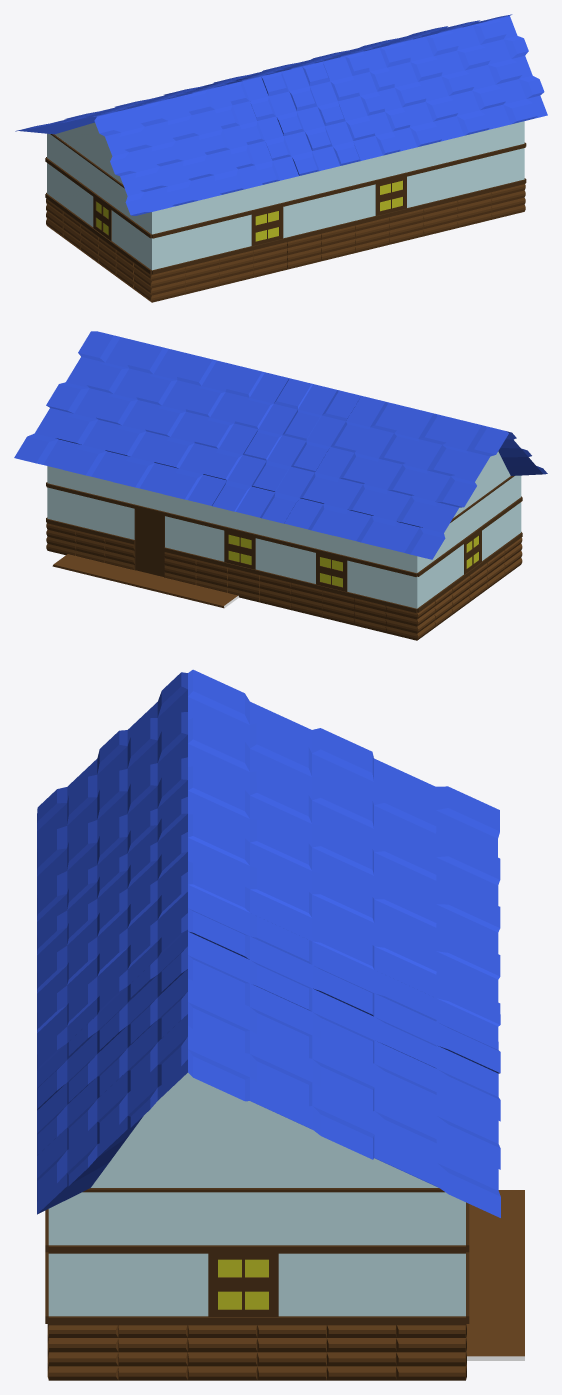
The model's file is casav3.fbx.
3 renders of one model, top to bottom at view 1: azimuth 30°, elevation 25°; view 2: azimuth 150°, elevation 25°; view 3: azimuth 270°, elevation 25°, orthographic. The views are drawn at different scales.
Visible parts, largest first — view 1: T; view 2: T; view 3: T.
Part boxes in pixels (x1,y1,x2,y2): T: (15,14,547,302); T: (14,331,547,640); T: (37,669,524,1380).
Size of the model in its own units: 1364 by 511 by 689.
